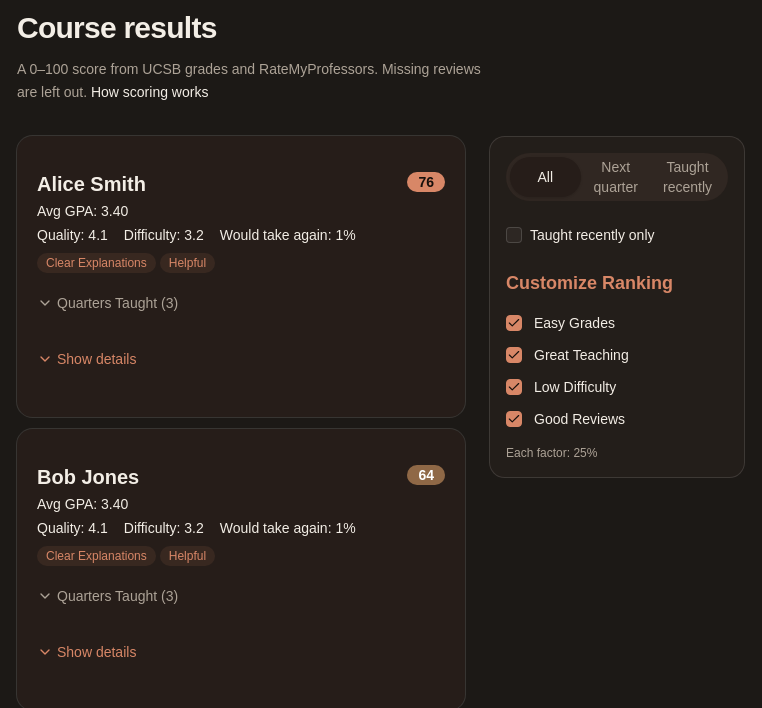
Test case: CoursePage - Active Teacher Filter › shows all professors with note when filter on but none active
The image size is (762, 708).
Expected: the heading "Alice Smith" is shown, [37,172,146,196]
Expected: the heading "Bob Jones" is shown, [37,464,139,490]
Click the checkbox named "taught recently only" next to "Taught recently only".
click(514, 234)  # box [506,226,522,242]
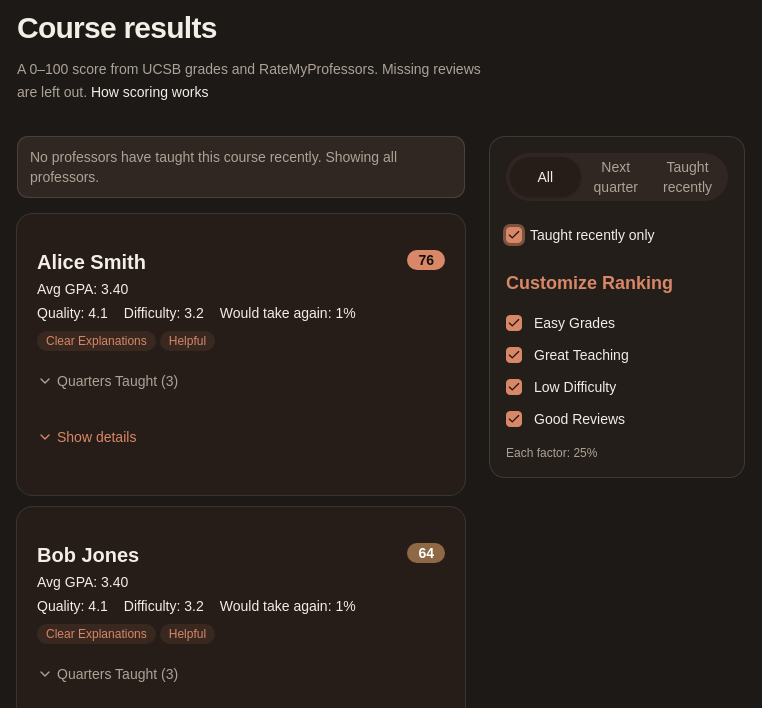
Expected: the heading "Alice Smith" is shown, [37,250,146,274]
Now the text "No professors have taught this course recently" is shown, box [30,148,397,184]
